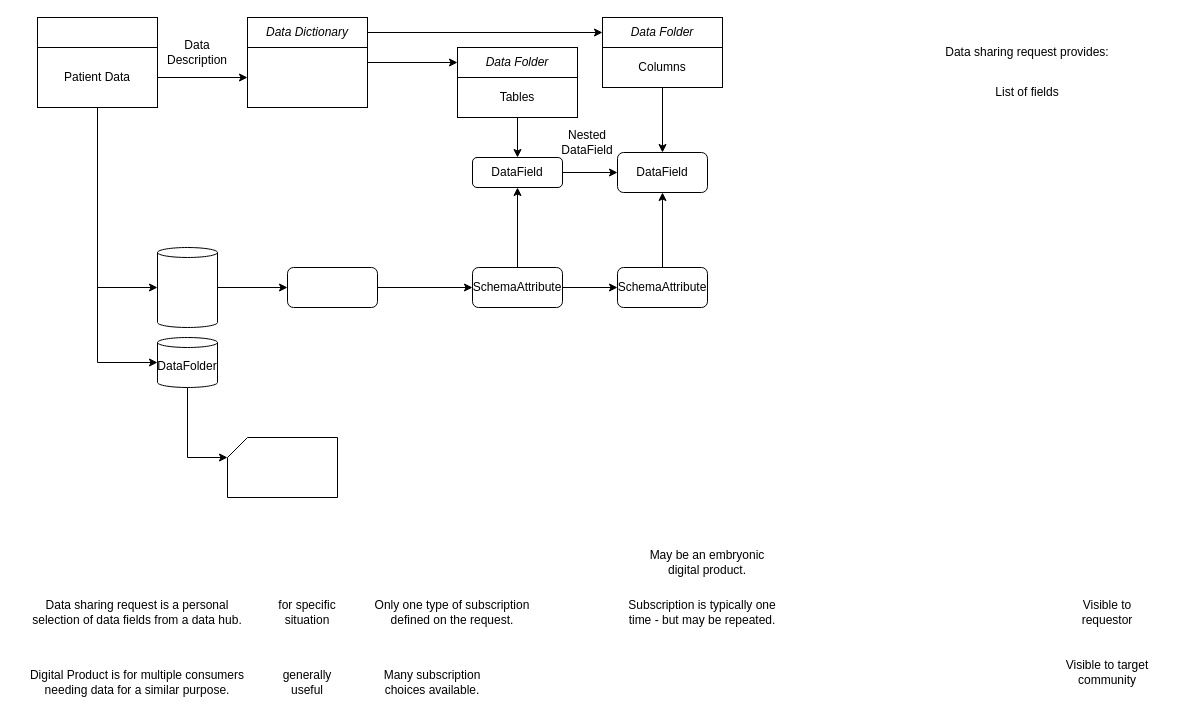
The diagram is 1184 pixels wide and 715 high, and some of its shapes have lost their labels. Each missing label, with the centre of its shape:
"Data Hub" goes at pixel 97 32.
"File" goes at pixel 282 467.
"Patient Data Sharing Hub" goes at pixel 307 77.
"Postgres Database" goes at pixel 187 287.
"SchemaType" goes at pixel 332 287.
